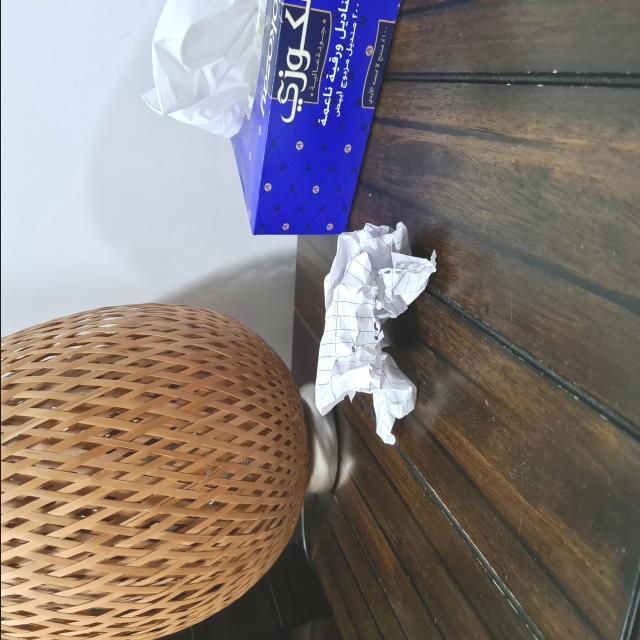Paper: (308, 213, 432, 444)
